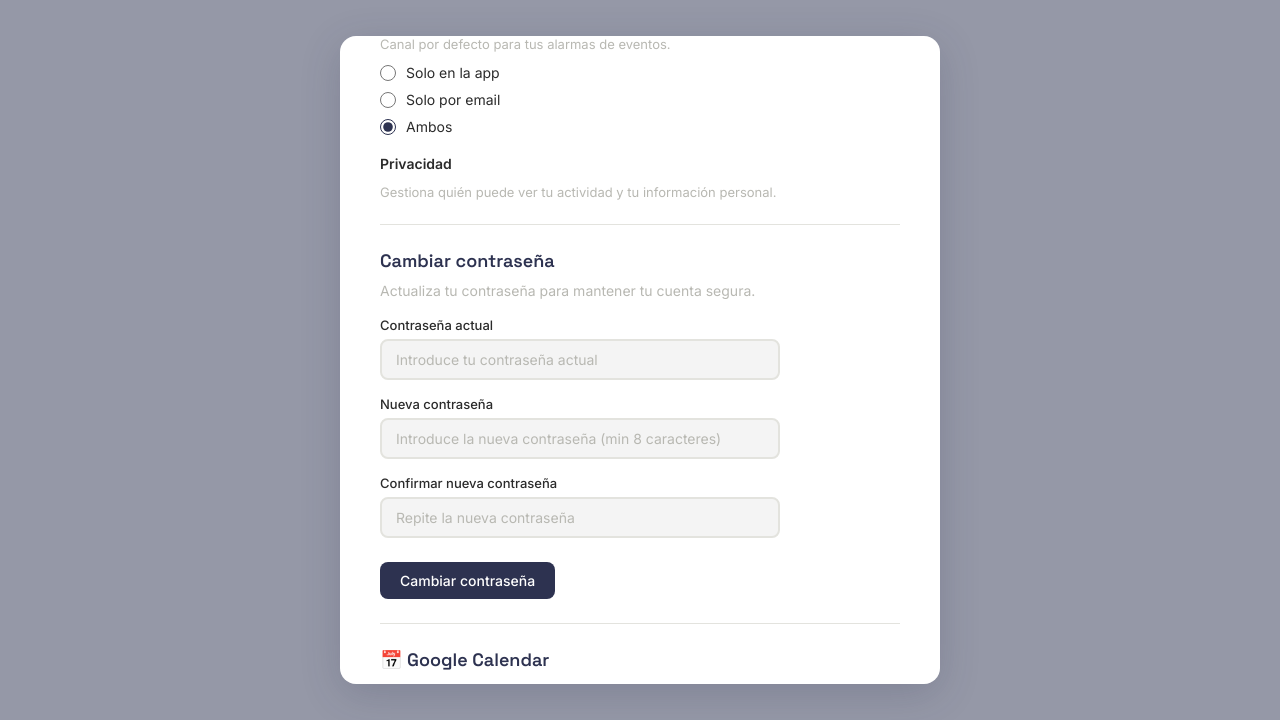
Test: Settings › password change - same as current
The width and height of the screenshot is (1280, 720).
(page scrolled)
Step 1. Type "SamePass1" into the password field with placeholder "Introduce tu contraseña actual" → (580, 360), box [380,339,780,380]
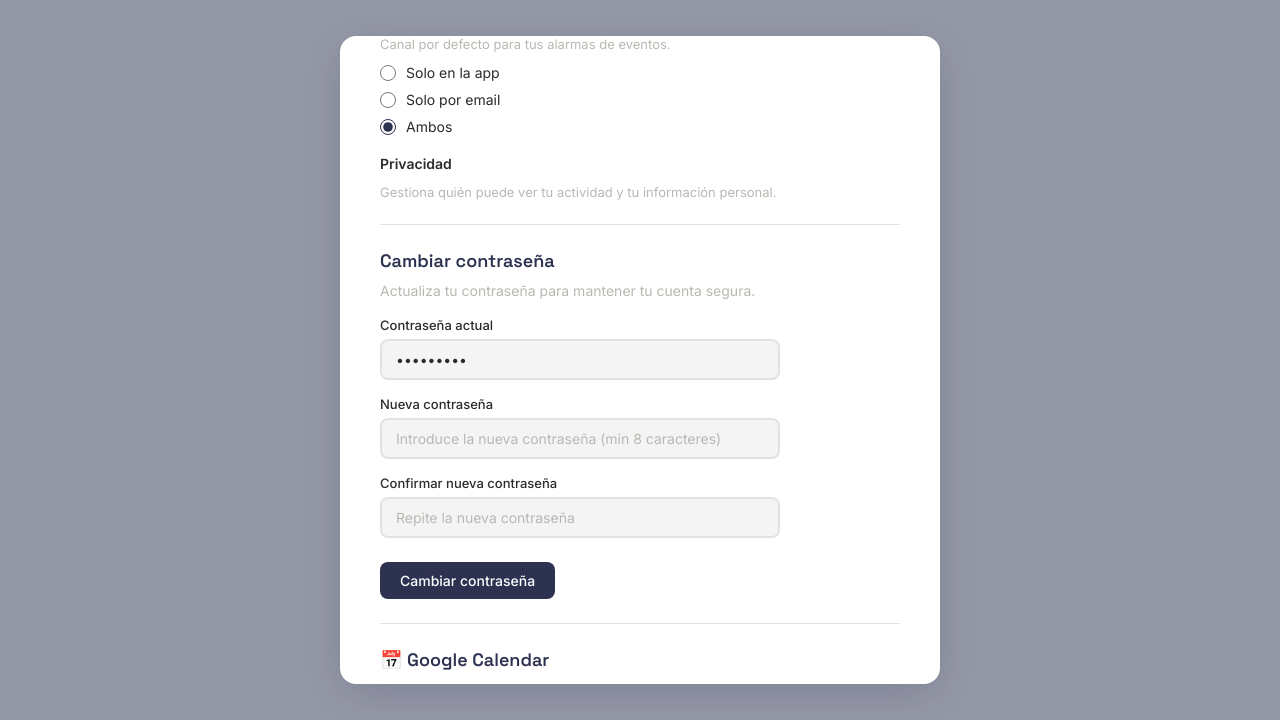
Step 2. Type "SamePass1" into the password field with placeholder "Introduce la nueva contraseña (min 8 caracteres)" → (580, 438), box [380,418,780,459]
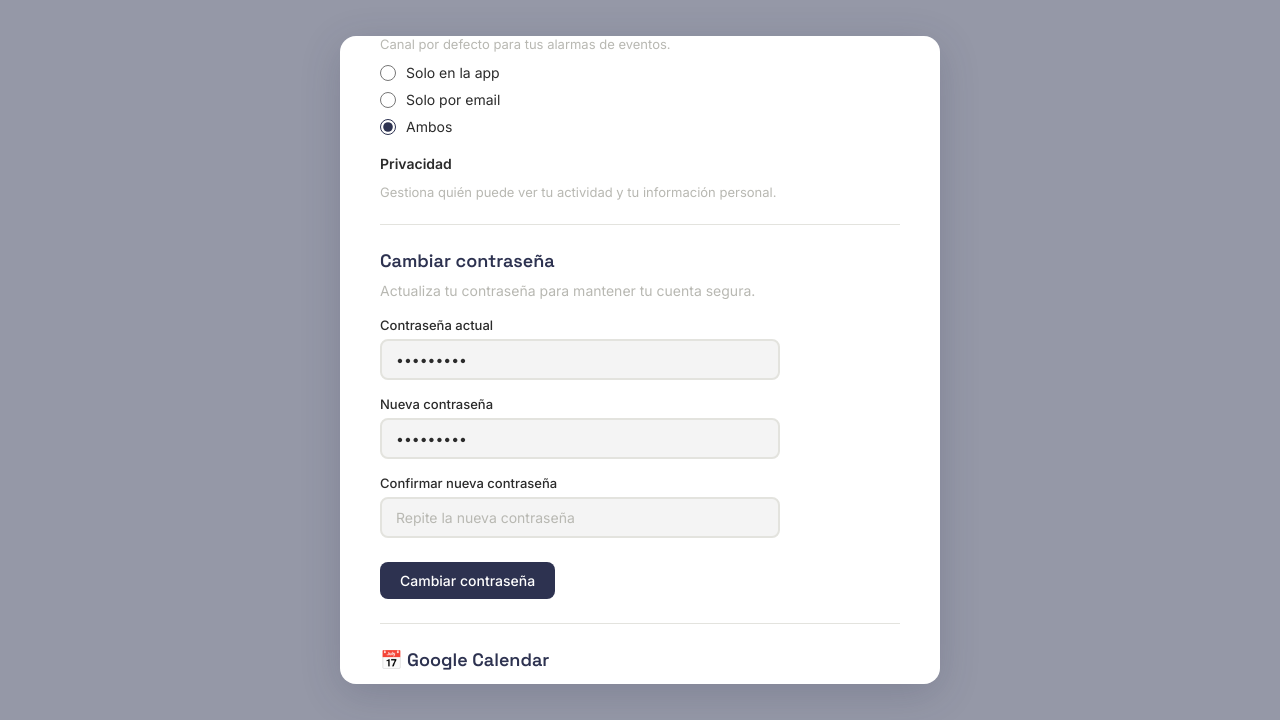
Step 3. Type "SamePass1" into the password field with placeholder "Repite la nueva contraseña" → (580, 518), box [380,497,780,538]
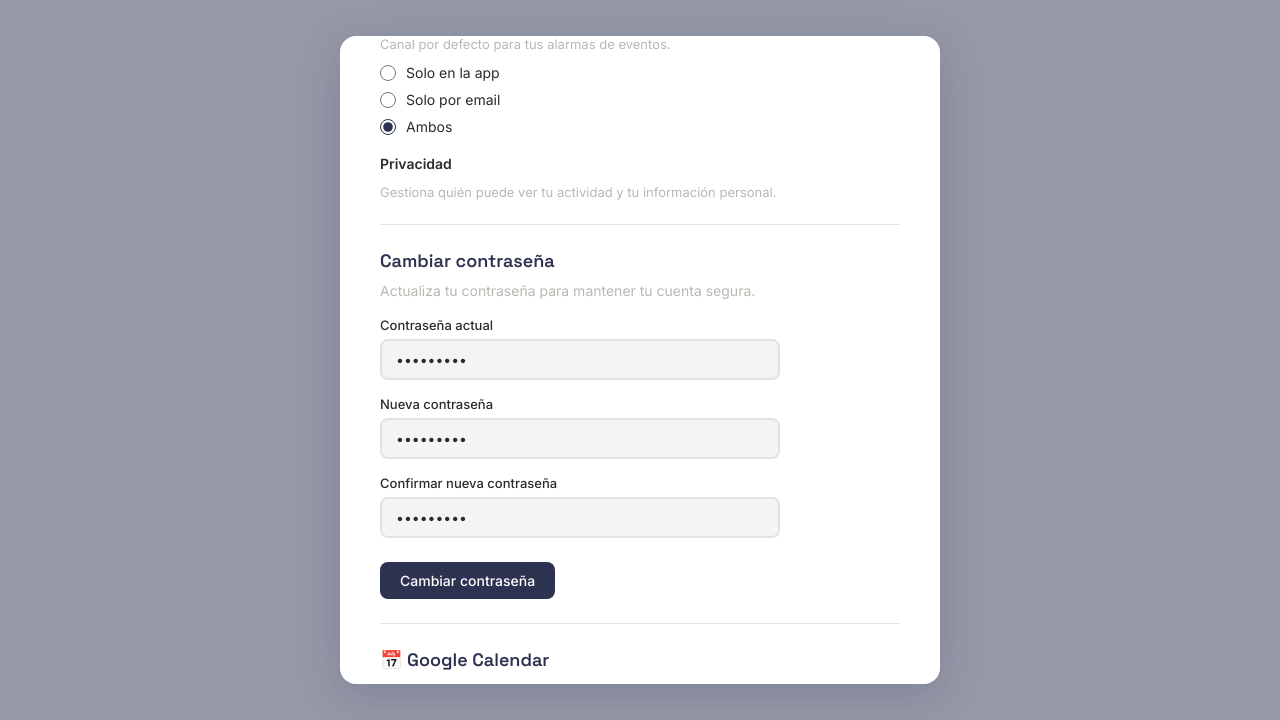
Step 4. Click the button "Cambiar contraseña" → (468, 580), box [380,562,555,599]
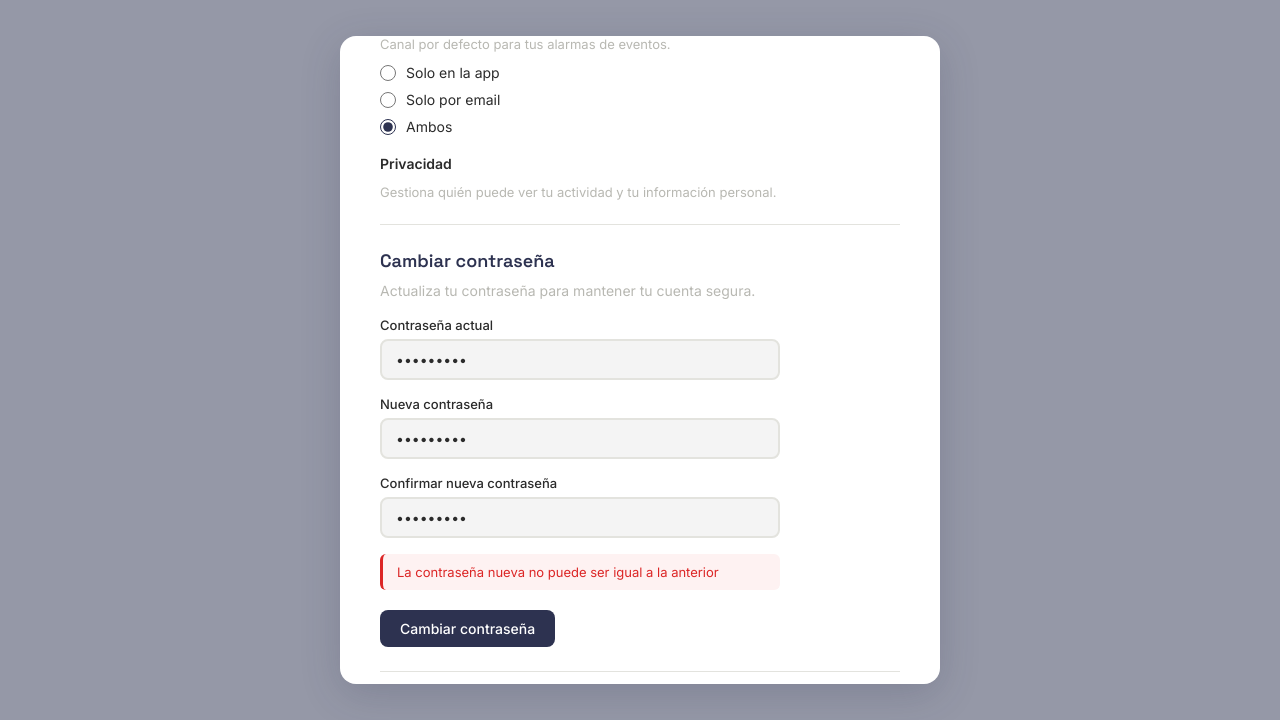
Expected: the text "La contraseña nueva no puede ser igual a la anterior" is shown, [380,554,780,590]
